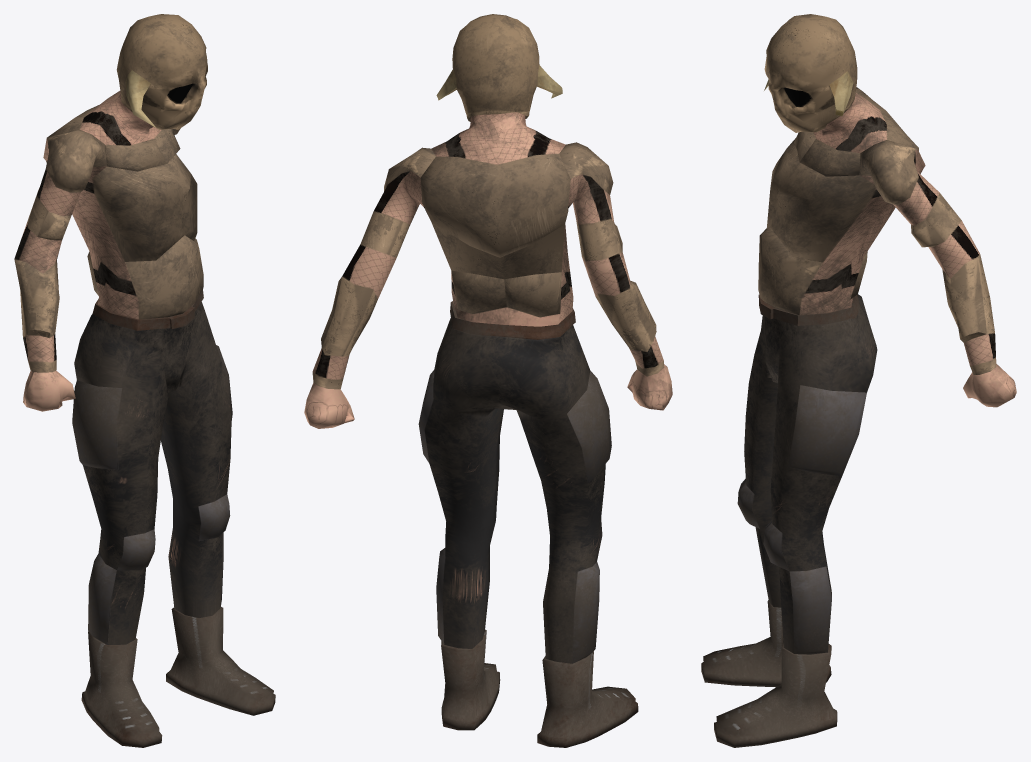
The model's file is Anim_recibirdanyo_npc1.0030.obj.
3 views of the same model, side by side, from view 1: azimuth 30°, elevation 25°; view 2: azimuth 150°, elevation 25°; view 3: azimuth 270°, elevation 25° (orthographic). The views are drawn at different scales.
Parts seen in each view (by area): view 1: NPC2; view 2: NPC2; view 3: NPC2.
Boxes of the visible parts, x1=… form: NPC2: x1=14, y1=14, x2=275, y2=747; NPC2: x1=304, y1=14, x2=672, y2=747; NPC2: x1=701, y1=14, x2=1016, y2=747.
Size of the model in its own units: 3.52 by 9.44 by 3.9.
